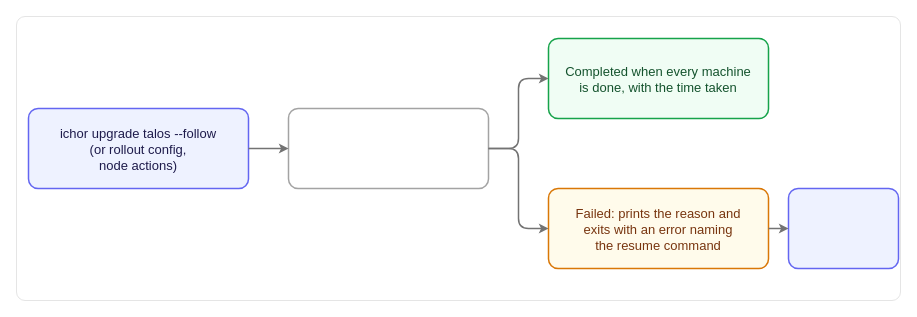
Some shapes in this 917 by 317 pixel diagram are drawn without their labels. The box of each missing label's shape, as (x1, y1, x2, y2) in pixels:
ichor resume operation NAME: (787, 187, 899, 269)
One line per change: phase, nodes done, what it is doing: (287, 107, 489, 189)
